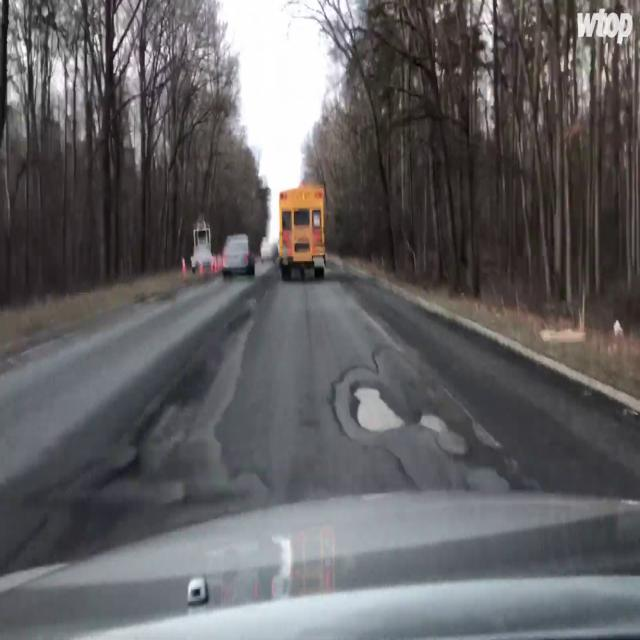Pothole: (120, 401, 172, 474), (349, 382, 405, 432), (418, 412, 472, 453), (467, 460, 512, 491), (228, 310, 252, 331)
